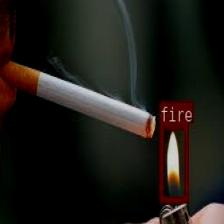fire: (159, 122, 188, 202)
